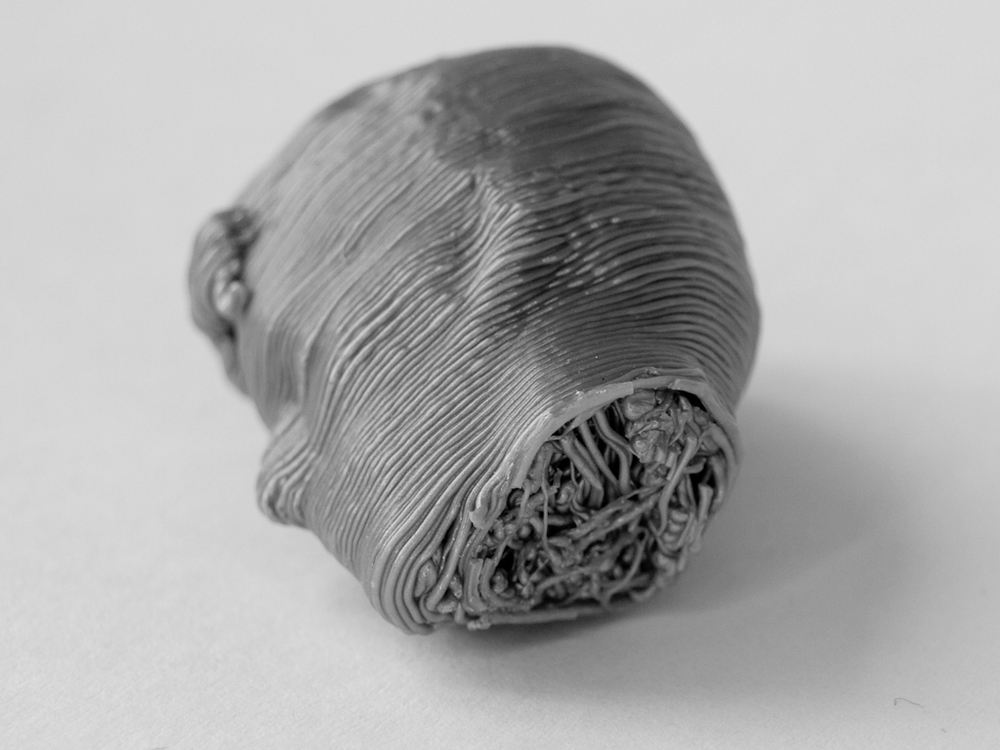fail: (360, 350, 790, 660)
